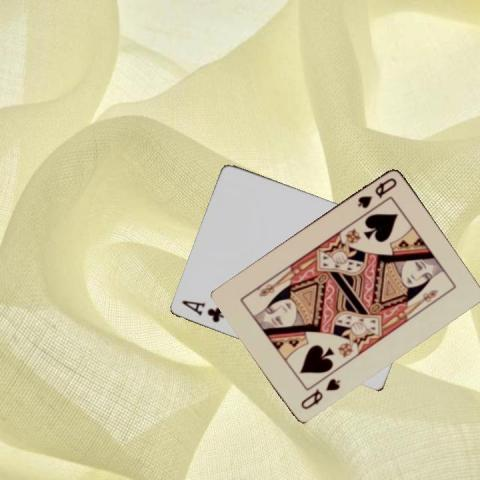Ac: (179, 297, 227, 324)
Qs: (298, 374, 342, 410), (355, 174, 398, 209)
